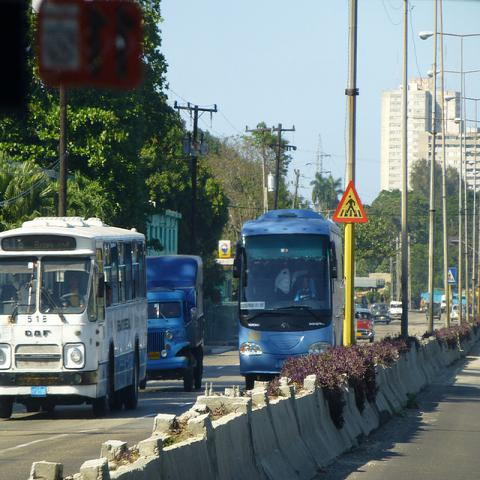bus: (1, 216, 148, 423), (230, 208, 347, 393)
car: (354, 308, 375, 344), (372, 301, 390, 324), (388, 300, 404, 320), (425, 302, 441, 320), (450, 304, 458, 322), (462, 304, 467, 318)
truck: (145, 251, 206, 397), (390, 301, 402, 316), (440, 295, 446, 312)
